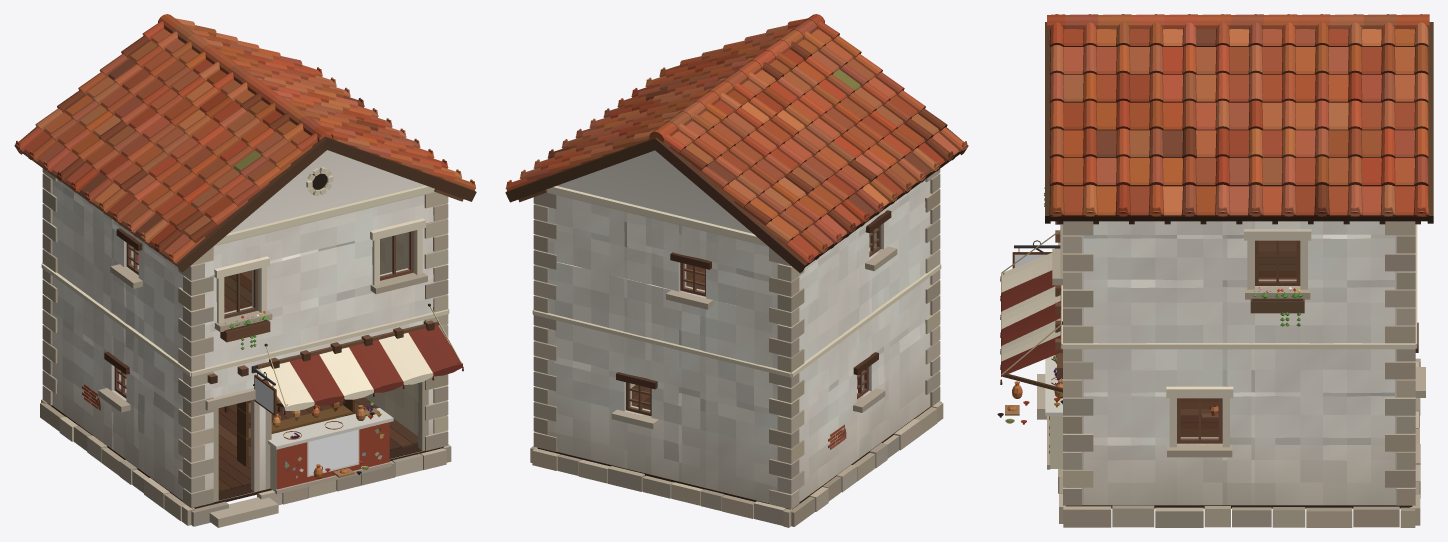
File: shop_taberna.glb
The picture shows the model from 3 angles, left to right: view 1: azimuth 30°, elevation 25°; view 2: azimuth 150°, elevation 25°; view 3: azimuth 270°, elevation 25°; orthographic projection. The views are drawn at different scales.
Parts seen in each view (by area): view 1: House, Walls, Rooms; view 2: House, Walls, Rooms; view 3: House, Walls, Rooms.
Part boxes in pixels (box(x1,y1,x2,y2)): House: box(14, 14, 476, 527); Walls: box(51, 150, 444, 500); Rooms: box(125, 232, 418, 492); House: box(505, 14, 968, 527); Walls: box(537, 150, 931, 503); Rooms: box(632, 233, 870, 409); House: box(997, 14, 1433, 527); Walls: box(1065, 221, 1412, 505); Rooms: box(1180, 240, 1296, 437).
Bounding box in the file's own units: 5.04 × 5.8 × 5.26.
7 materials, 7 textured.
